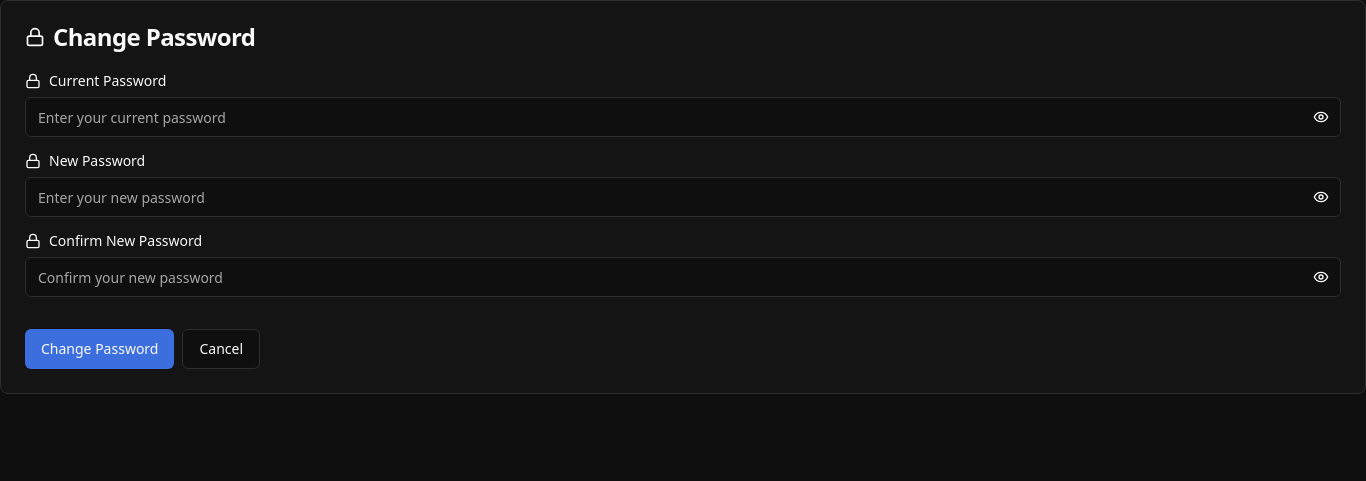
Test case: PasswordChangeForm › should show error message on API failure
Type "wrongpass" into the password field labelled "Current Password".
click(683, 117); type("wrongpass")  # box [25,97,1341,137]
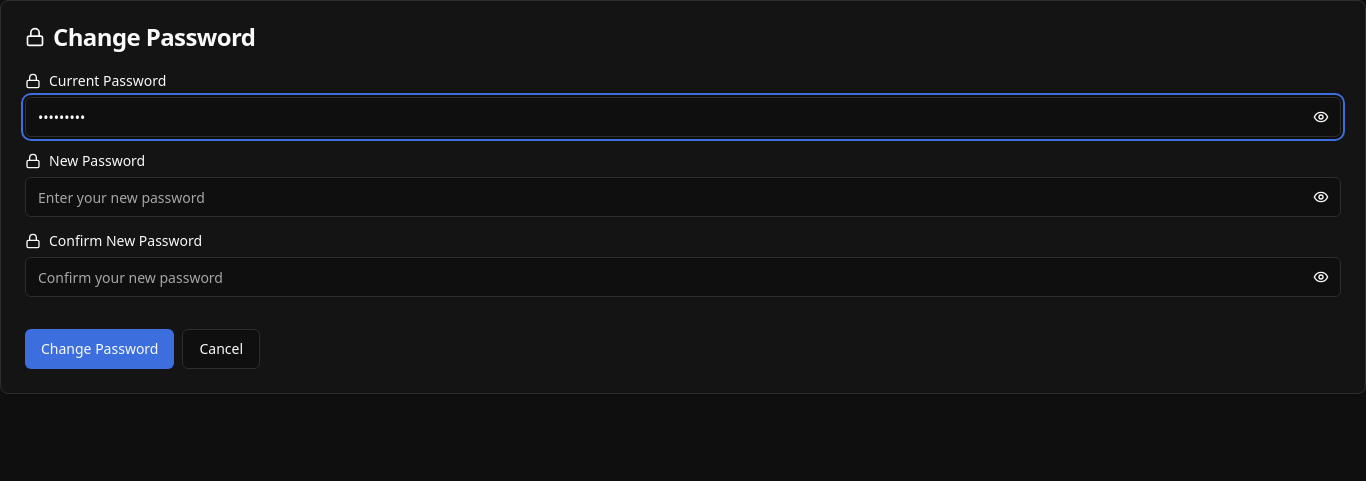
Type "Newpassword123!" into the password field labelled "New Password".
click(683, 197); type("Newpassword123!")  # box [25,177,1341,217]
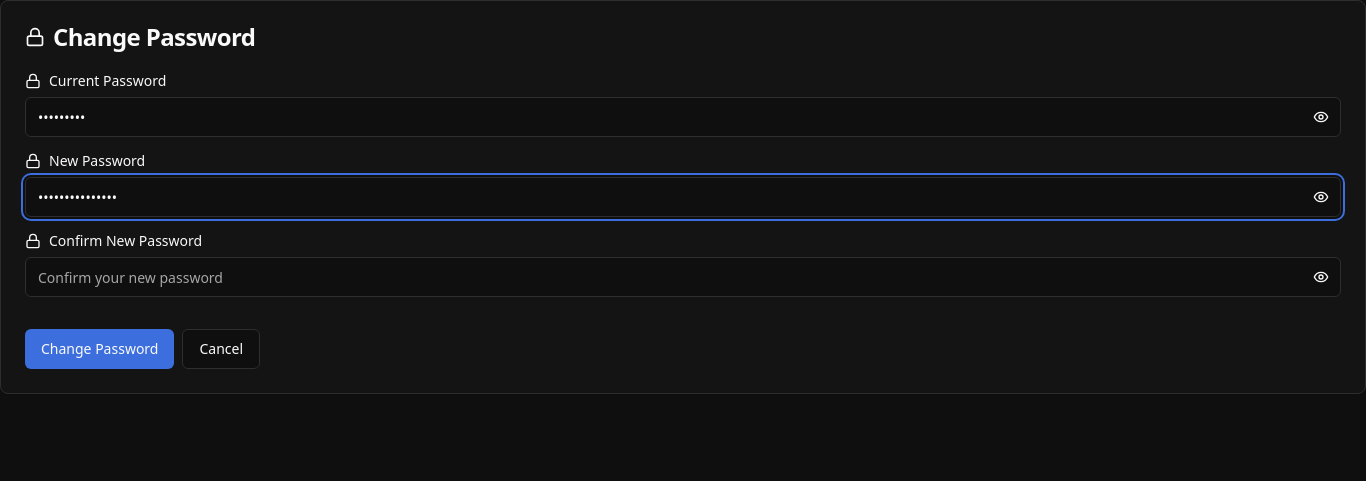
Type "Newpassword123!" into the password field labelled "Confirm New Password".
click(683, 277); type("Newpassword123!")  # box [25,257,1341,297]
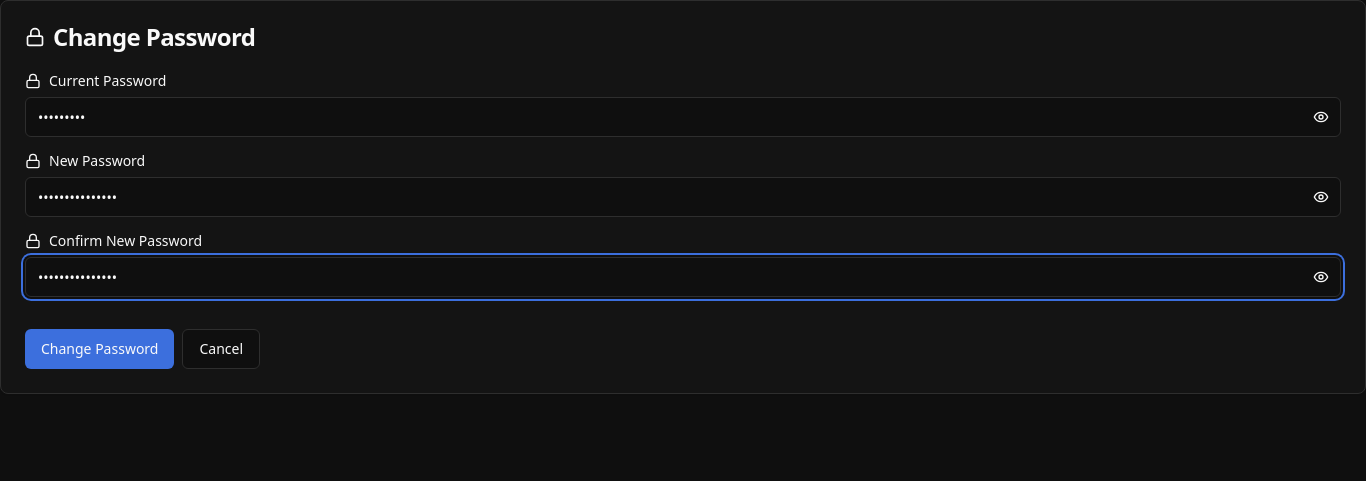
Click the button "Change Password".
click(100, 349)  # box [25,329,174,369]
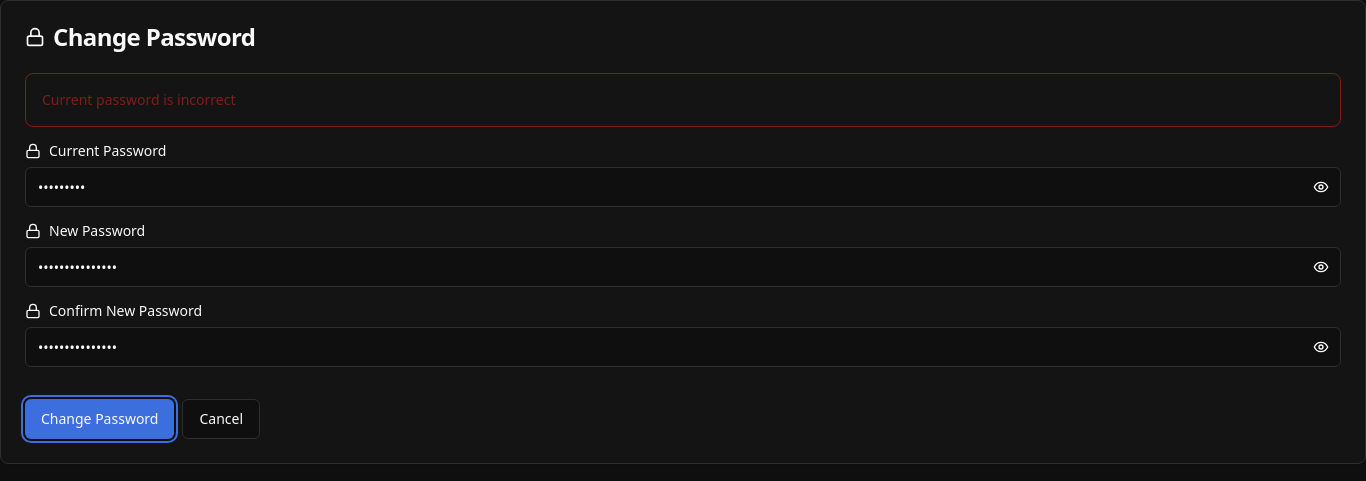
Result: the text "Current password is incorrect" is shown at [42,90,236,109]
